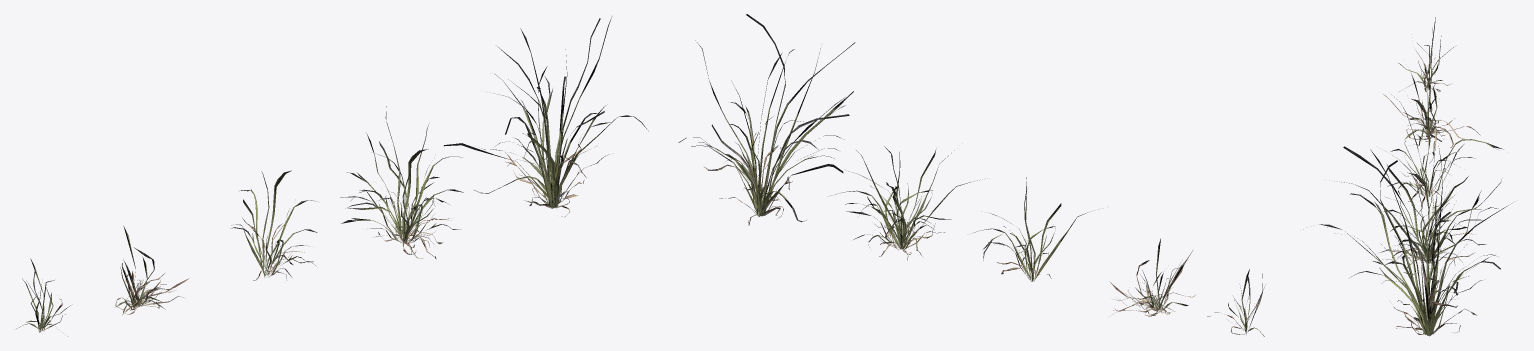
File: herbes_hautes_lod1.glb
The picture shows the model from 3 angles, left to right: view 1: azimuth 30°, elevation 25°; view 2: azimuth 150°, elevation 25°; view 3: azimuth 270°, elevation 25°; orthographic projection. The views are drawn at different scales.
Visible parts, largest first — view 1: grass_medium_02_a; view 2: grass_medium_02_a; view 3: grass_medium_02_a.
Part boxes in pixels (bbox=[...]): grass_medium_02_a: bbox=[16, 17, 648, 332]; grass_medium_02_a: bbox=[678, 14, 1264, 336]; grass_medium_02_a: bbox=[1303, 17, 1510, 336].
Size of the model in its own units: 1.3 by 0.4053 by 0.4318.
Materials: 1 (1 with a texture image).
